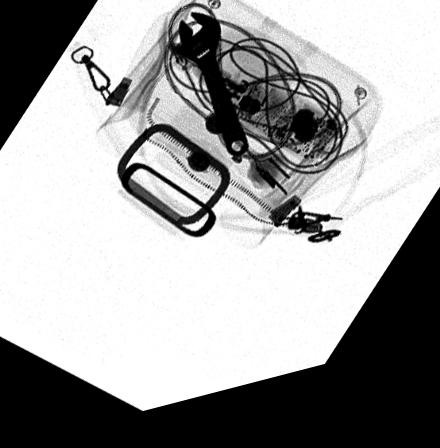Wrench: (171, 20, 250, 172)
